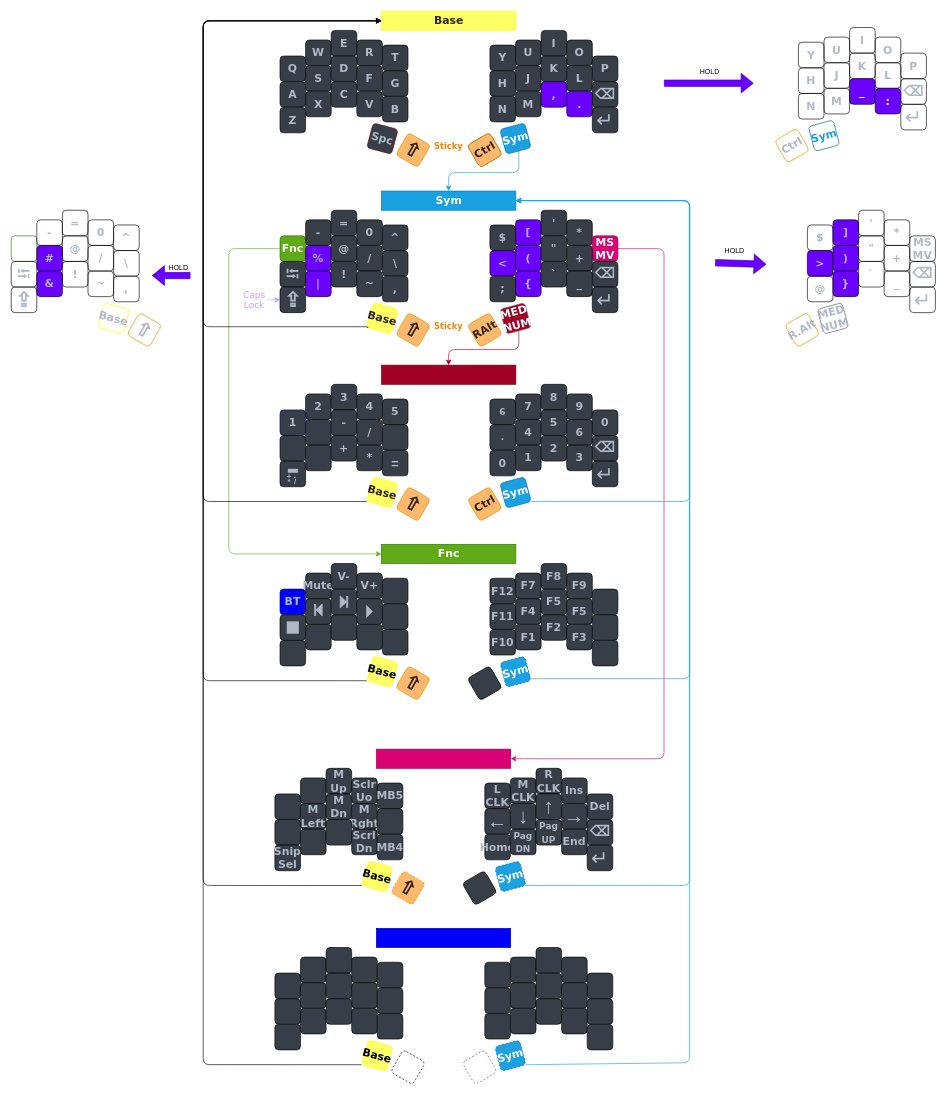
The diagram is 947 pixels wide and 1096 high, and some of its shapes have lost their labels. Here are the shapes that lost their labels. From the top down, the box of each, then its label:
(381, 364, 516, 384): MEDIA/NUMBER
(376, 748, 511, 768): MOUSE/MOVE
(376, 928, 511, 948): Bluetooth
